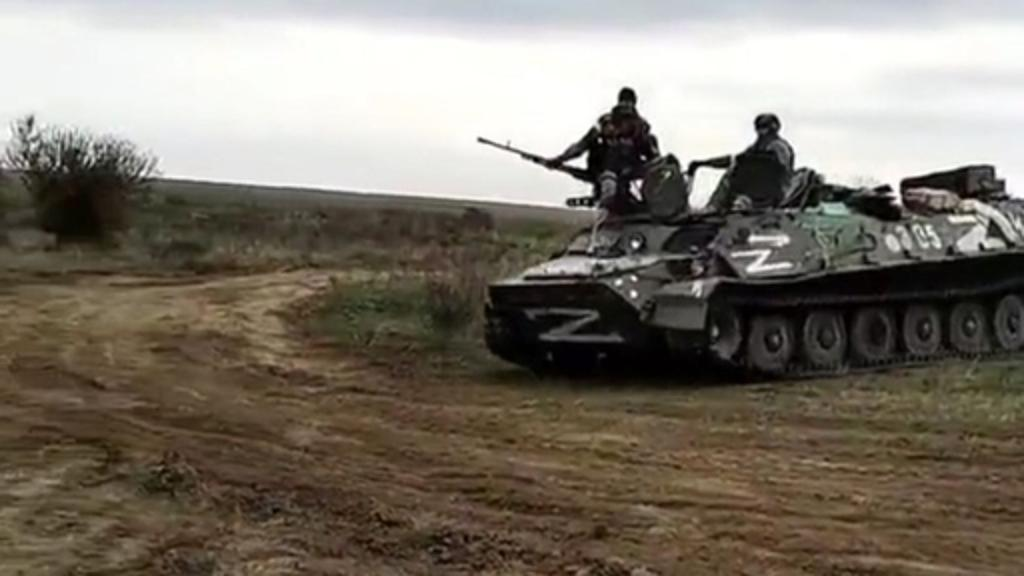APC-IFV: (474, 132, 1018, 374)
